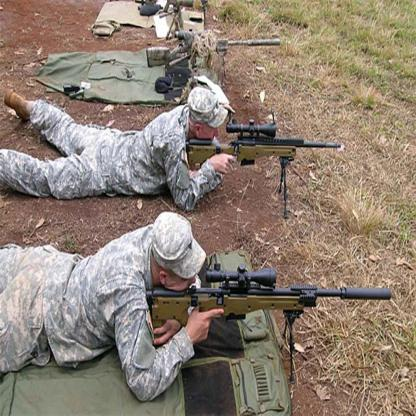face: (174, 259, 198, 302), (199, 111, 222, 147)
